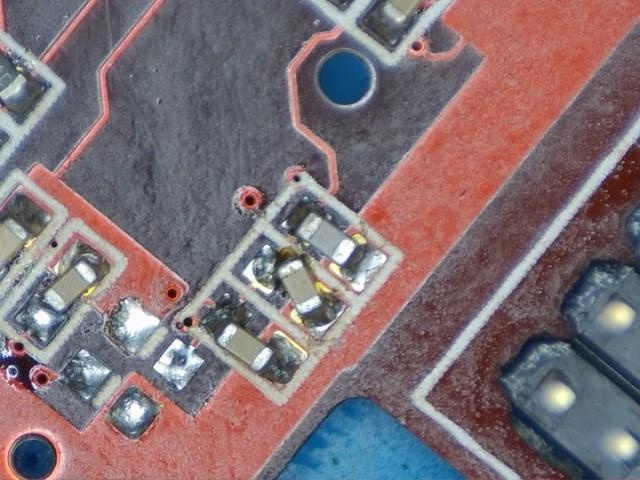pcb_defect: (201, 292, 308, 391), (243, 245, 348, 339), (14, 241, 109, 343)
